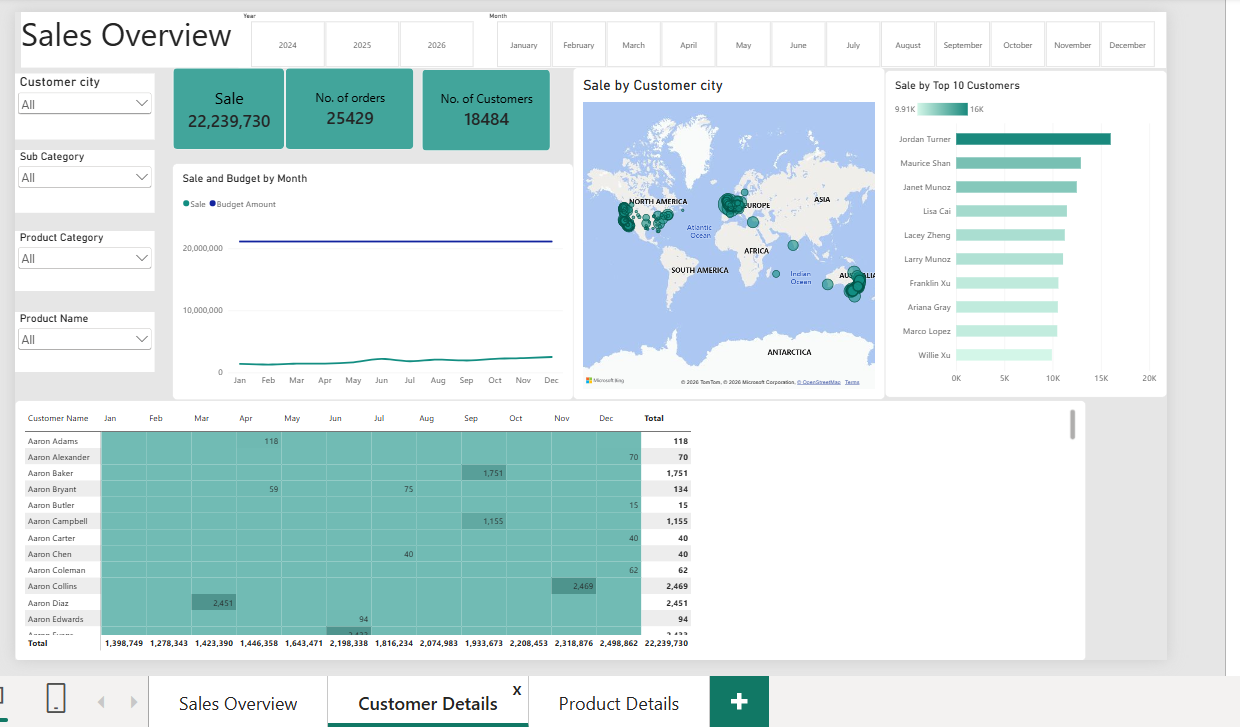

This screenshot's page, from the dashboard's own definition file:
{"tool":"powerbi","page":{"name":"Customer Details","canvas":[1920,1080],"ordinal":1},"visuals":[{"type":"textbox","box":[10,0,280,280],"z":0},{"type":"textbox","box":[10,0,1884.2,92.5],"z":1000},{"type":"slicer","fields":{"Values":["Dim_Customer.Customer city"]},"box":[0,102.5,232.4,110],"z":2000},{"type":"slicer","fields":{"Values":["Dim_Products.Sub Category"]},"box":[0,229.9,232.4,105],"z":3000},{"type":"slicer","fields":{"Values":["Dim_Products.Product Category"]},"box":[0,364.8,232.4,100],"z":4000},{"type":"slicer","fields":{"Values":["Dim_Products.Product Name"]},"box":[0,499.8,232.4,100],"z":5000},{"type":"slicer","fields":{"Values":["Dim_Calendar.Year"]},"box":[372.2,0,410.4,93.1],"z":6000},{"type":"slicer","fields":{"Values":["Dim_Calendar.Month"]},"box":[782.6,0,1135.7,93.1],"z":7000},{"type":"lineChart","title":"Sale and Budget by Month","fields":{"Category":["Dim_Calendar.Monthshort"],"Y":["Key Measures.Sale","Key Measures.Budget Amount"]},"box":[262.5,252.9,668.1,393.7],"z":11000},{"type":"barChart","title":"Sale by Top 10 Customers","fields":{"Category":["Dim_Customer.FullName"],"Y":["Key Measures.Sale"]},"box":[1450.6,97.8,469.8,544.8],"z":12000},{"type":"map","title":"Sale by Customer city","fields":{"Category":["Dim_Customer.Customer city"],"Size":["Key Measures.Sale"]},"box":[930.5,93.1,520.1,553.5],"z":13000},{"type":"pivotTable","fields":{"Columns":["Dim_Calendar.Monthshort"],"Rows":["Dim_Customer.FullName"],"Values":["Key Measures.Sale"]},"box":[0,646.6,1784.7,434.2],"z":14000},{"type":"cardVisual","fields":{"Data":["Key Measures.Sale"]},"box":[262.5,92.5,187.5,137.5],"z":14001},{"type":"cardVisual","fields":{"Data":["Key Measures.No. of orders"]},"box":[450,92.5,215,137.5],"z":14002},{"type":"cardVisual","fields":{"Data":["Key Measures.No. of Customers"]},"box":[677.5,95,215,137.5],"z":14003}]}

Visuals, with their boxes on the page's 1920x1080 design canvas (x1, y1, x2, y2). These are canvas units, not pixel positions in the 1240x727 screenshot, which may show the page scaled, cropped or inside an application window:
textbox: locate(10, 0, 290, 280)
textbox: locate(10, 0, 1894, 92)
slicer - Dim_Customer.Customer city: locate(0, 102, 232, 212)
slicer - Dim_Products.Sub Category: locate(0, 230, 232, 335)
slicer - Dim_Products.Product Category: locate(0, 365, 232, 465)
slicer - Dim_Products.Product Name: locate(0, 500, 232, 600)
slicer - Dim_Calendar.Year: locate(372, 0, 783, 93)
slicer - Dim_Calendar.Month: locate(783, 0, 1918, 93)
"Sale and Budget by Month" lineChart: locate(262, 253, 931, 647)
"Sale by Top 10 Customers" barChart: locate(1451, 98, 1920, 643)
"Sale by Customer city" map: locate(930, 93, 1451, 647)
pivotTable - Dim_Calendar.Monthshort x Dim_Customer.FullName: locate(0, 647, 1785, 1081)
cardVisual - Key Measures.Sale: locate(262, 92, 450, 230)
cardVisual - Key Measures.No. of orders: locate(450, 92, 665, 230)
cardVisual - Key Measures.No. of Customers: locate(678, 95, 892, 232)
